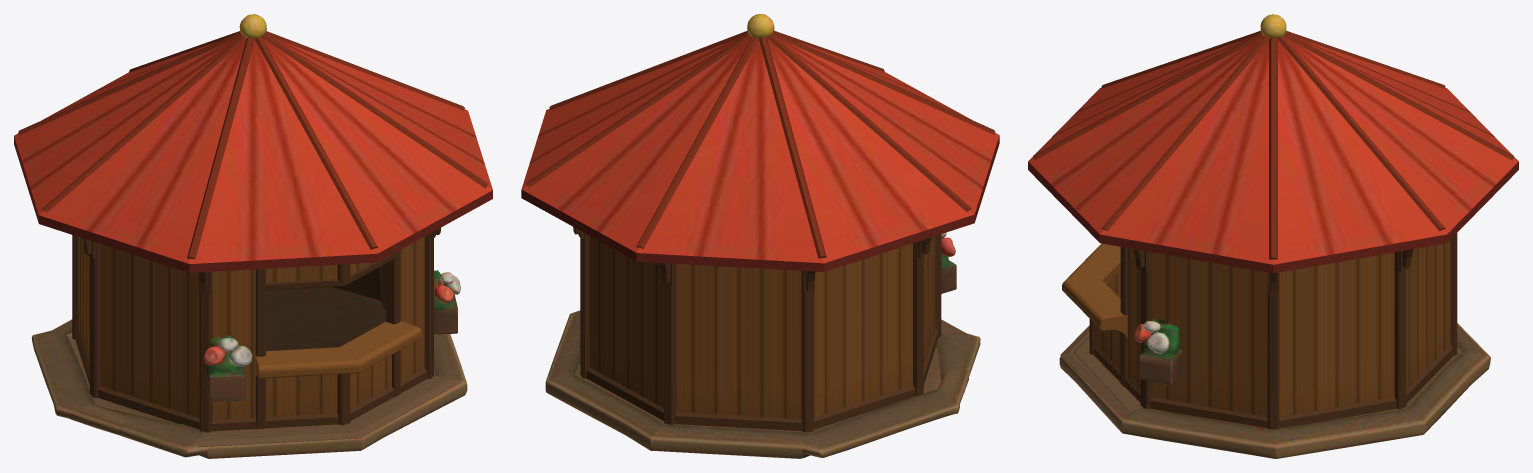
The model's file is kiosk-cafe.glb.
3 views of the same model, side by side, from view 1: azimuth 30°, elevation 25°; view 2: azimuth 150°, elevation 25°; view 3: azimuth 270°, elevation 25° (orthographic).
Visible parts, largest first — view 1: Kiosk-cafeBody; view 2: Kiosk-cafeBody; view 3: Kiosk-cafeBody.
Part boxes in pixels (<box>): Kiosk-cafeBody: <box>14,14,492,458</box>; Kiosk-cafeBody: <box>521,14,999,458</box>; Kiosk-cafeBody: <box>1028,14,1518,458</box>.
Bounding box in the file's own units: 5.6 × 4.45 × 5.61.
Materials: 1 (1 with a texture image).
